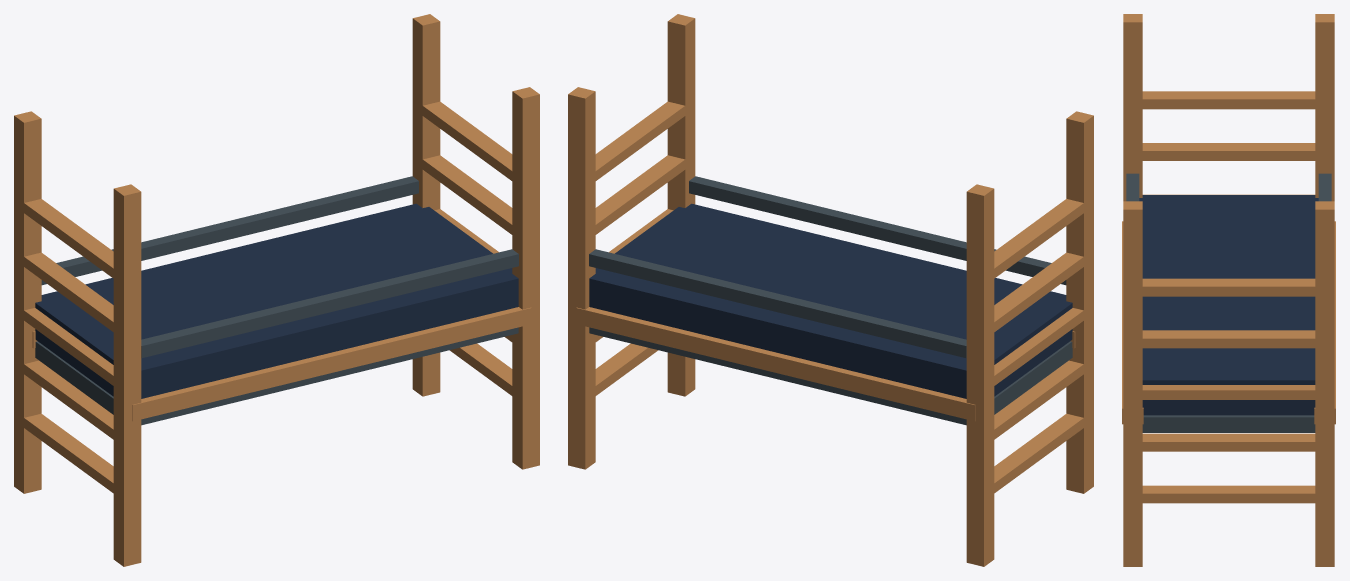
File: loft_bed_2.glb
The picture shows the model from 3 angles, left to right: view 1: azimuth 30°, elevation 25°; view 2: azimuth 150°, elevation 25°; view 3: azimuth 270°, elevation 25°; orthographic projection. The views are drawn at different scales.
Size of the model in its own units: 2.15 by 1.83 by 0.9911.
